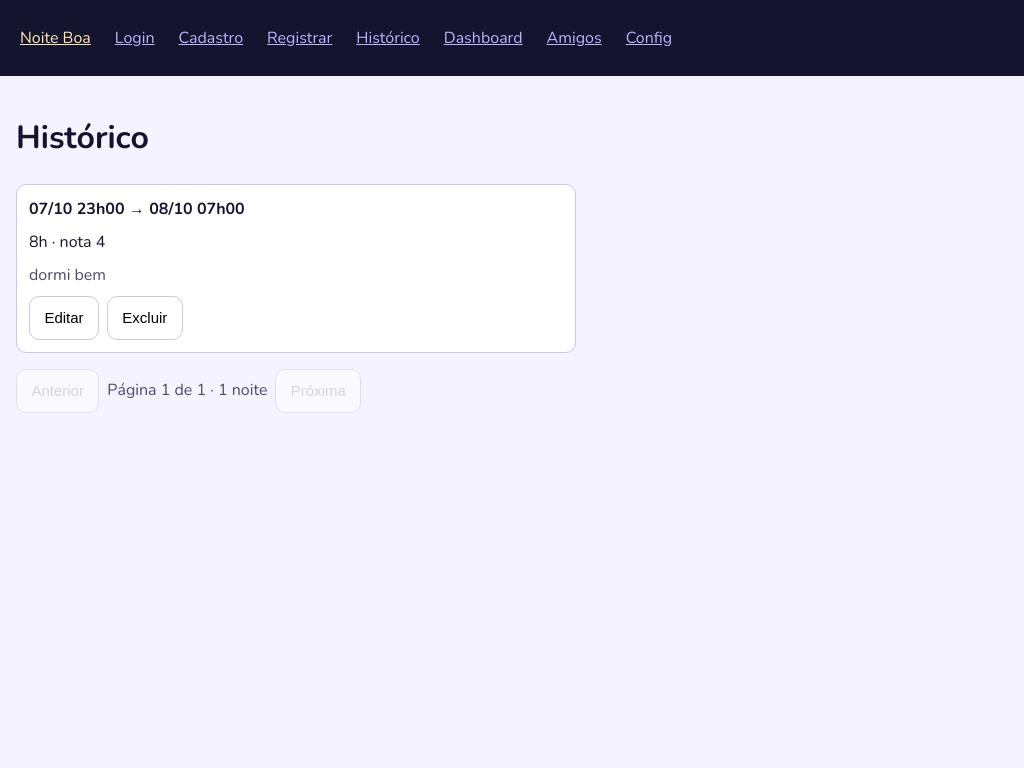
tela de Histórico › edita um registro pelo formulário inline
Click the button "Editar". click: coordinates (64, 318)
box: [29,296,99,340]
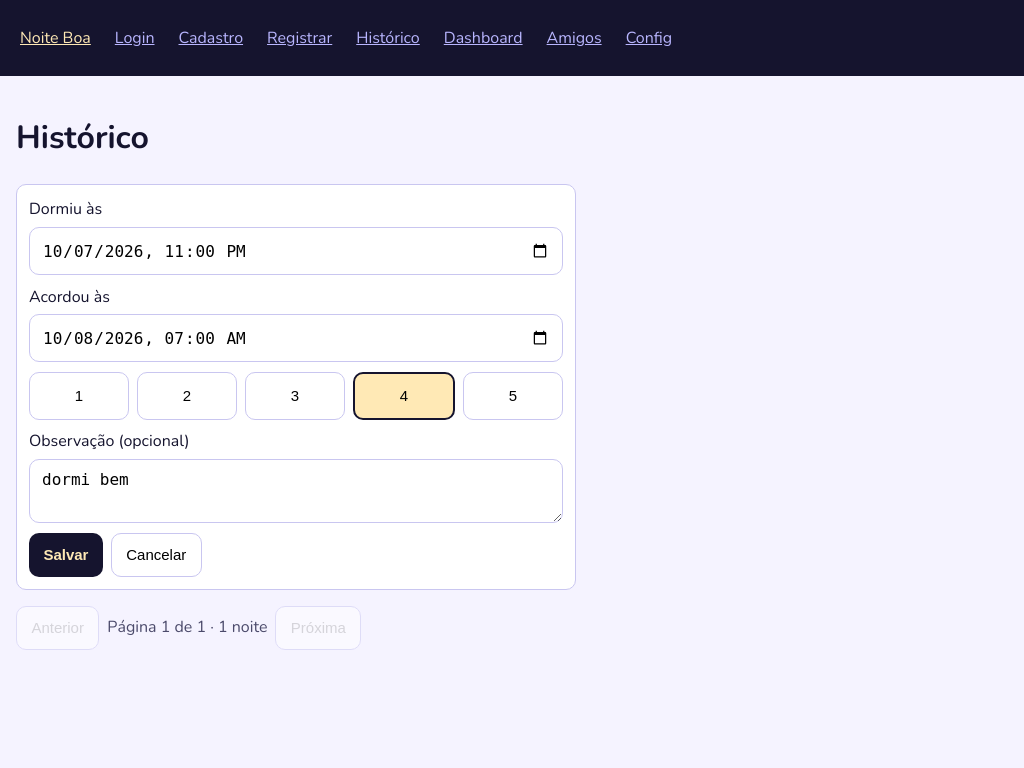
Now the field labelled "Dormiu às" holds "2026-10-07T23:00", box [29,227,563,275]
Replace the text in the field labelled "Acordou às" with "2026-10-08T08:00". click: coordinates (296, 338)
box: [29,314,563,362]
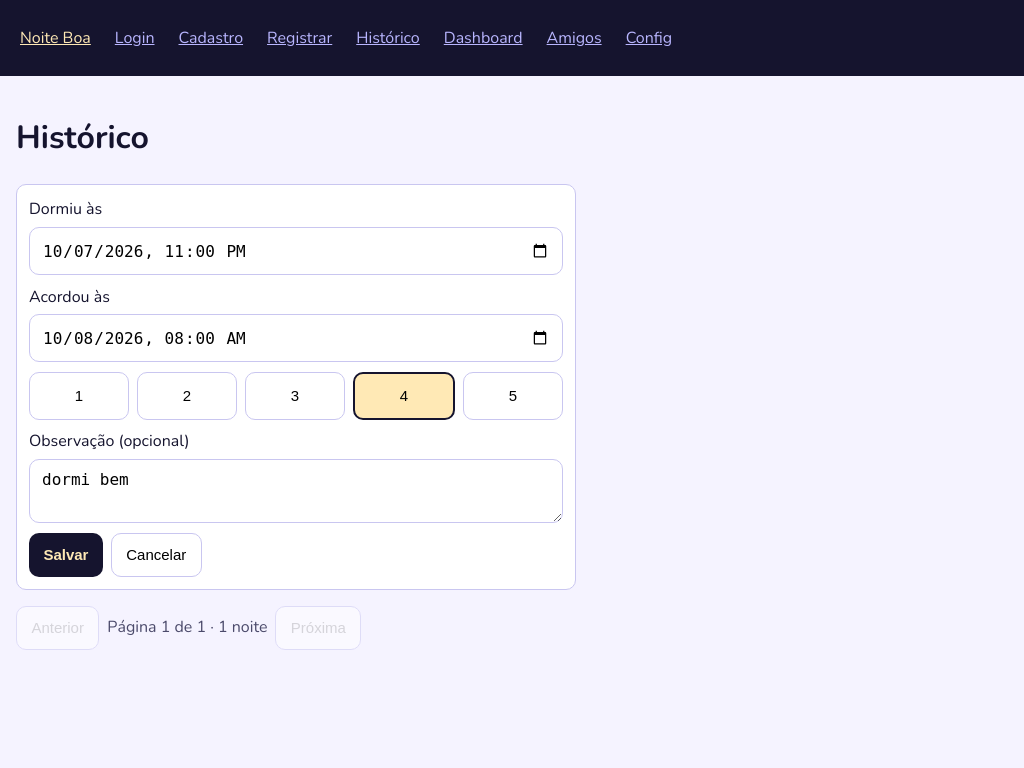
Click the button titled "2 Ruim". click: coordinates (187, 396)
box: [137,372,237,420]
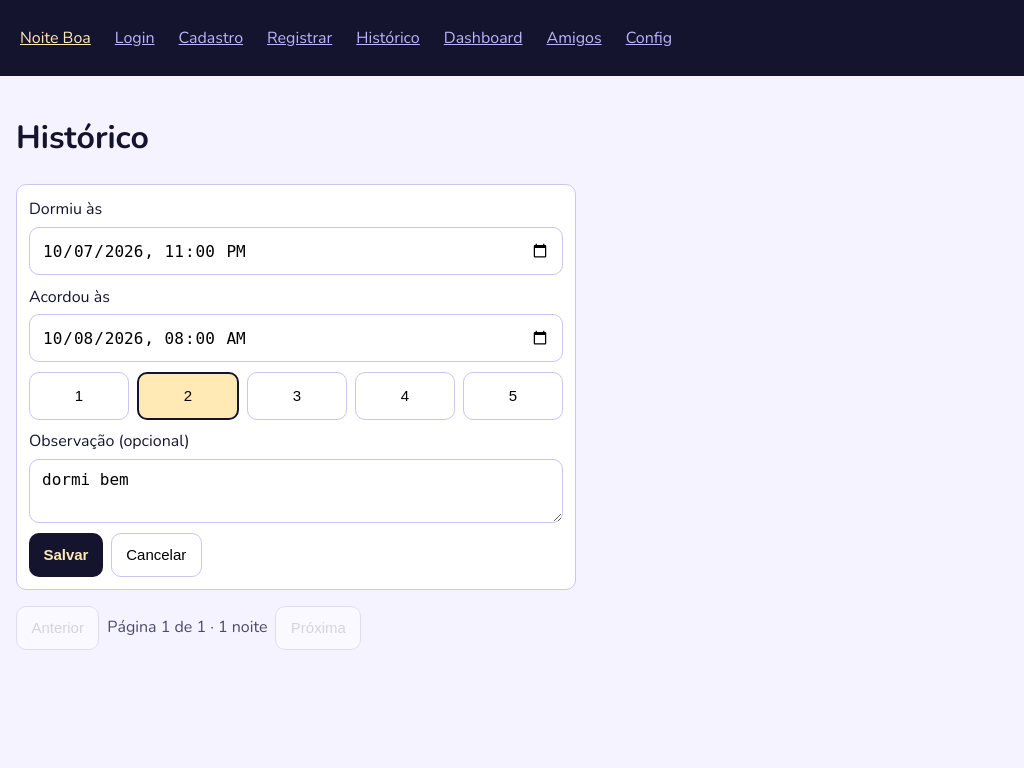
Click the button "Salvar". click: coordinates (66, 555)
box: [29,533,103,577]
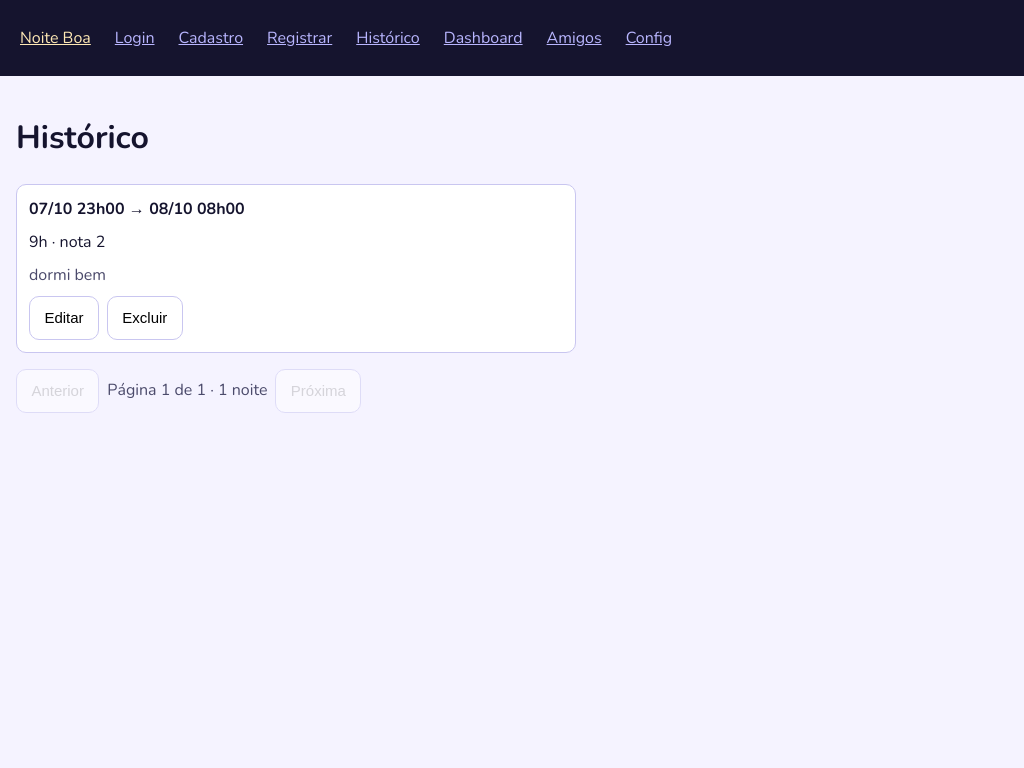
Now the text "9h · nota 2" is shown, box [29,231,105,253]
